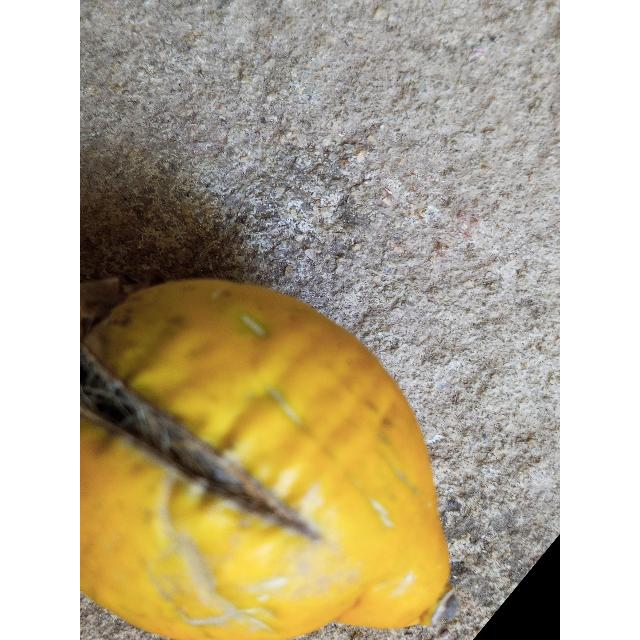damaged: (80, 279, 452, 640)
